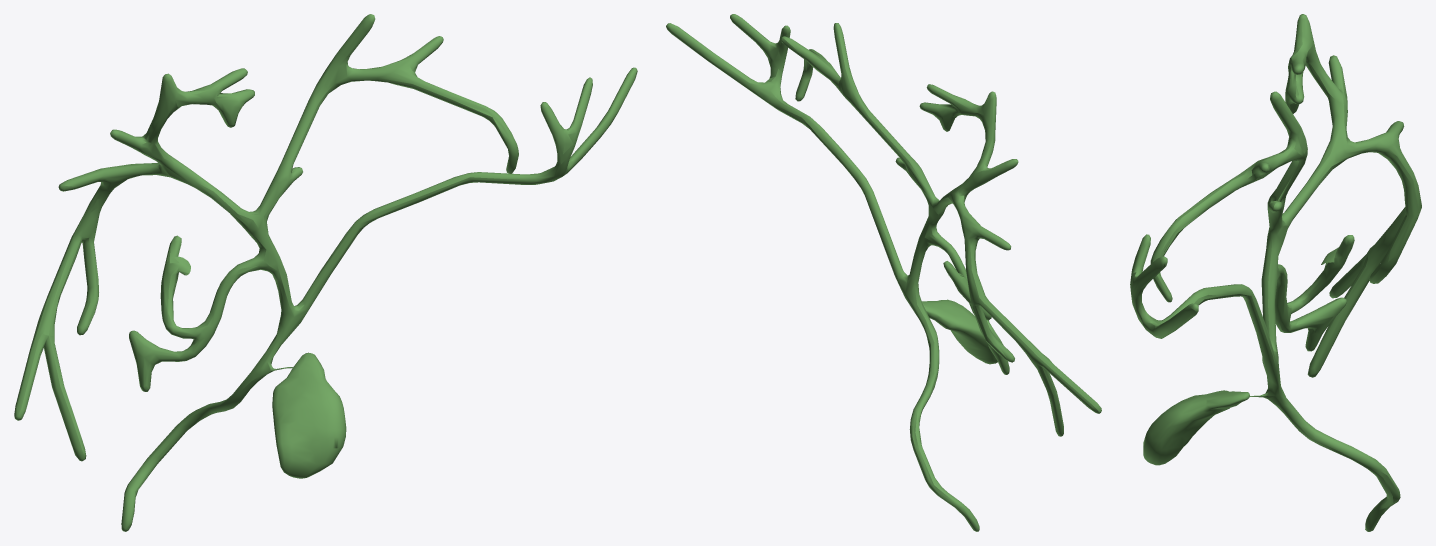
The model's file is gallbladder.glb.
The picture shows the model from 3 angles, left to right: view 1: azimuth 30°, elevation 25°; view 2: azimuth 150°, elevation 25°; view 3: azimuth 270°, elevation 25°; orthographic projection. The views are drawn at different scales.
Parts seen in each view (by area): view 1: gallbladder; view 2: gallbladder; view 3: gallbladder.
Part boxes in pixels (box(x1,y1,x2,y2)): gallbladder: box(14, 14, 637, 531); gallbladder: box(666, 14, 1101, 531); gallbladder: box(1130, 14, 1421, 531).
Bounding box in the file's own units: 1.05 × 0.8946 × 0.431.
1 material, 1 textured.
